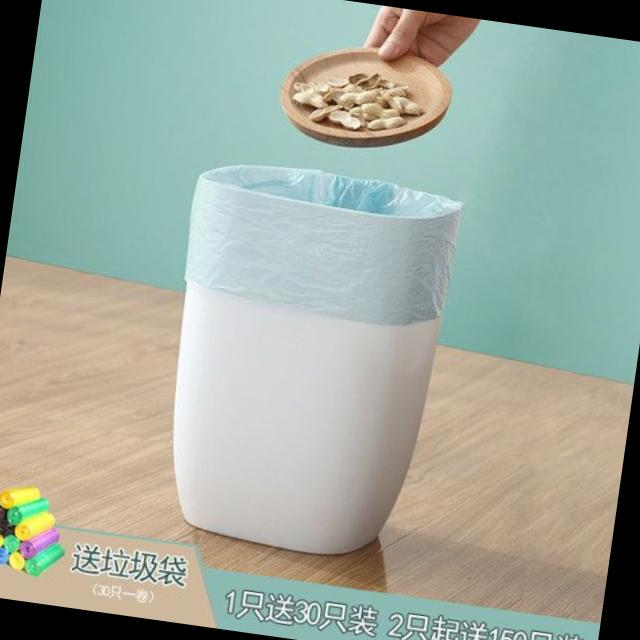dustbin: (145, 149, 472, 575)
